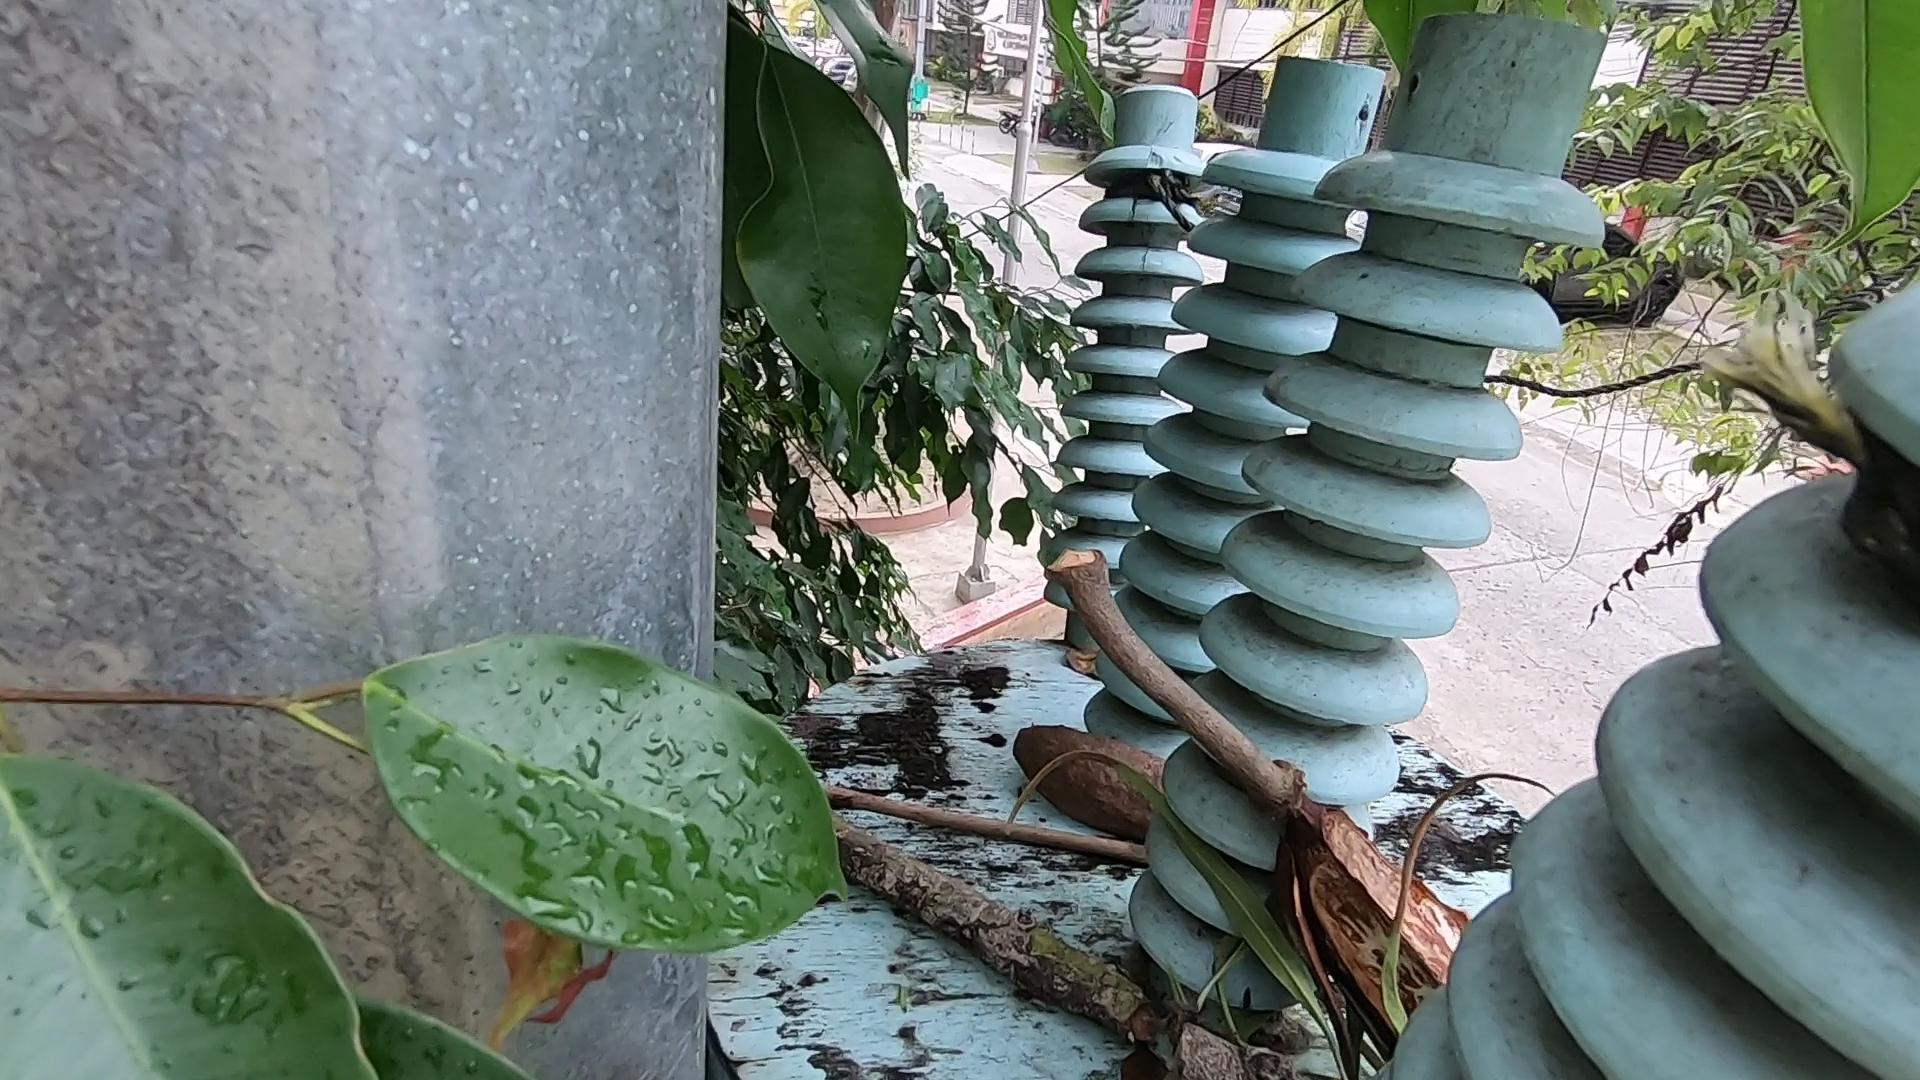branch with leaves: (822, 818, 1271, 1080)
leaf: (1179, 832, 1361, 1080), (1068, 644, 1098, 684)
mahogany fruit: (1253, 818, 1503, 1036), (989, 717, 1254, 873)
tree branch: (1068, 546, 1313, 814), (808, 781, 1154, 872)
